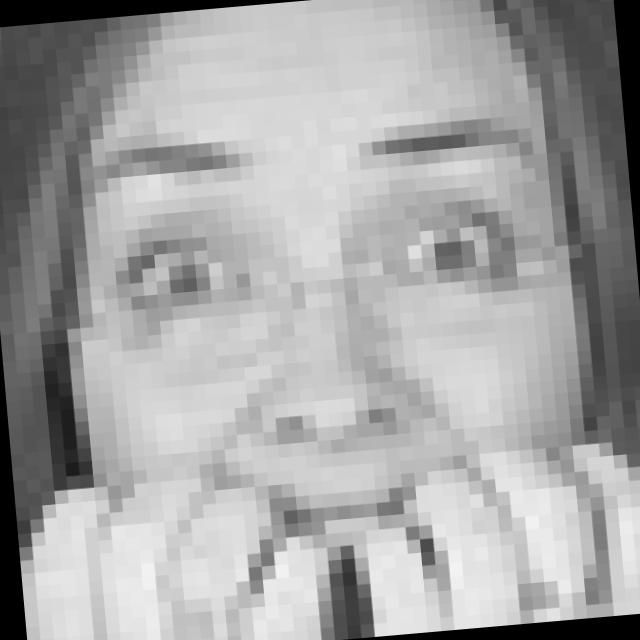fear: (74, 105, 592, 630)
